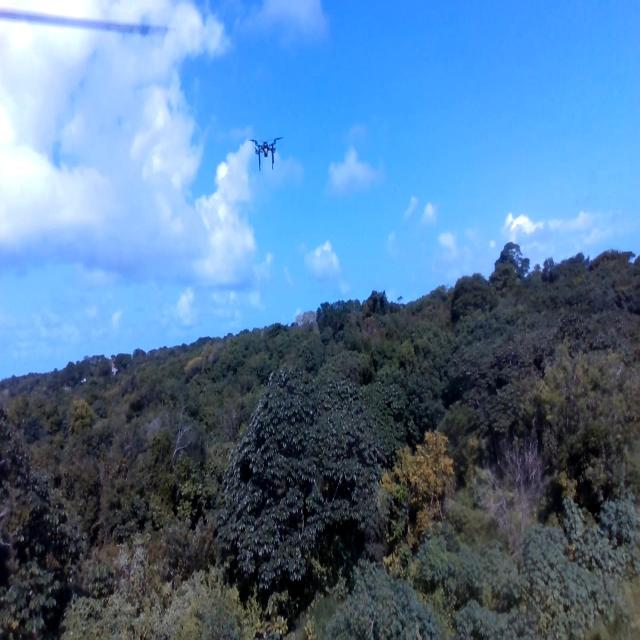-uav-: (243, 128, 287, 177)
